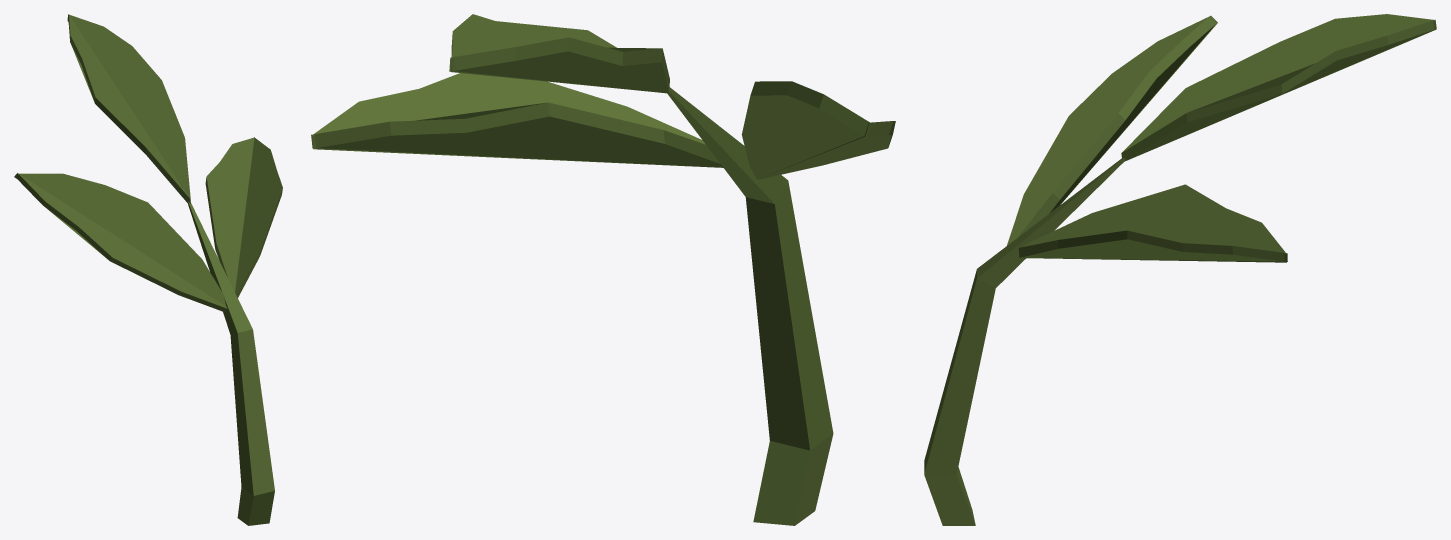
The model's file is Planta.fbx.
3 renders of one model, left to right at view 1: azimuth 30°, elevation 25°; view 2: azimuth 150°, elevation 25°; view 3: azimuth 270°, elevation 25°, orthographic. The views are drawn at different scales.
Visible parts, largest first — view 1: Plano.001, Cubo; view 2: Plano.001, Cubo; view 3: Plano.001, Cubo.
Boxes of the visible parts, bbox=[...] form: Plano.001: bbox=[14, 14, 282, 312]; Cubo: bbox=[181, 183, 274, 525]; Plano.001: bbox=[311, 14, 895, 179]; Cubo: bbox=[667, 87, 833, 525]; Plano.001: bbox=[1007, 14, 1436, 262]; Cubo: bbox=[924, 157, 1125, 525].
Bounding box in the file's own units: 0.6855 × 0.9218 × 0.8619.
